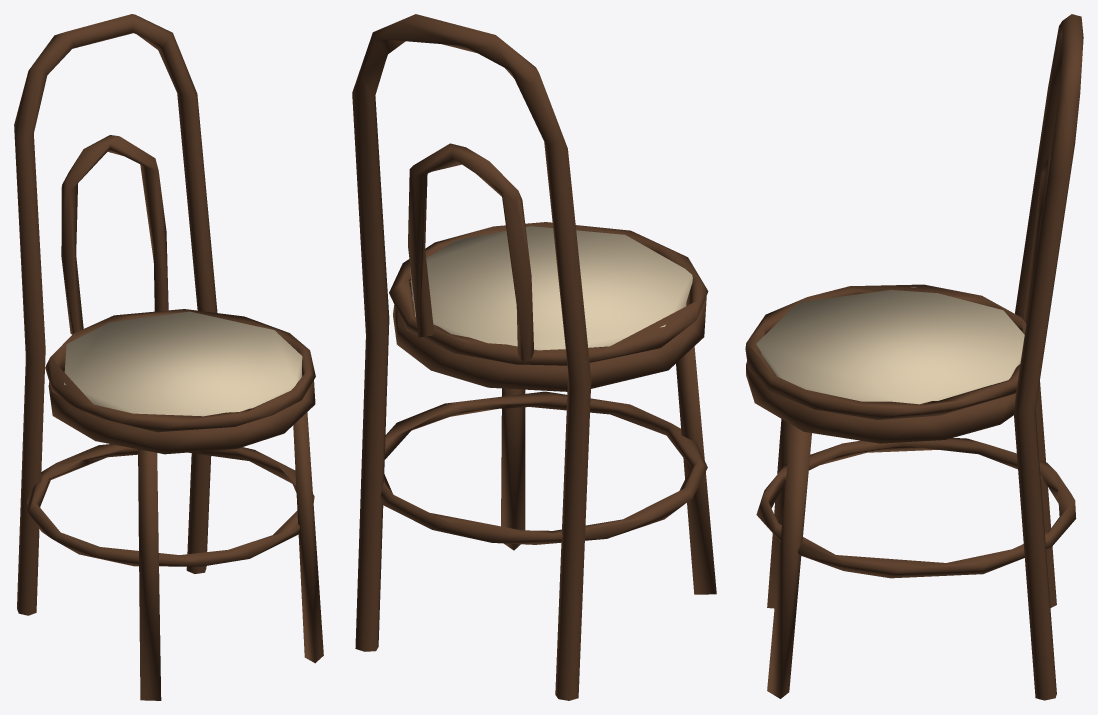
Rendered from cafeChair.far.glb.
3 views of the same model, side by side, from view 1: azimuth 30°, elevation 25°; view 2: azimuth 150°, elevation 25°; view 3: azimuth 270°, elevation 25° (orthographic). The views are drawn at different scales.
Parts seen in each view (by area): view 1: cafeChair_far; view 2: cafeChair_far; view 3: cafeChair_far.
Boxes of the visible parts, bbox=[...] form: cafeChair_far: bbox=[14, 14, 323, 700]; cafeChair_far: bbox=[352, 14, 716, 700]; cafeChair_far: bbox=[745, 14, 1083, 700].
Bounding box in the file's own units: 0.4451 × 0.9505 × 0.4704.
